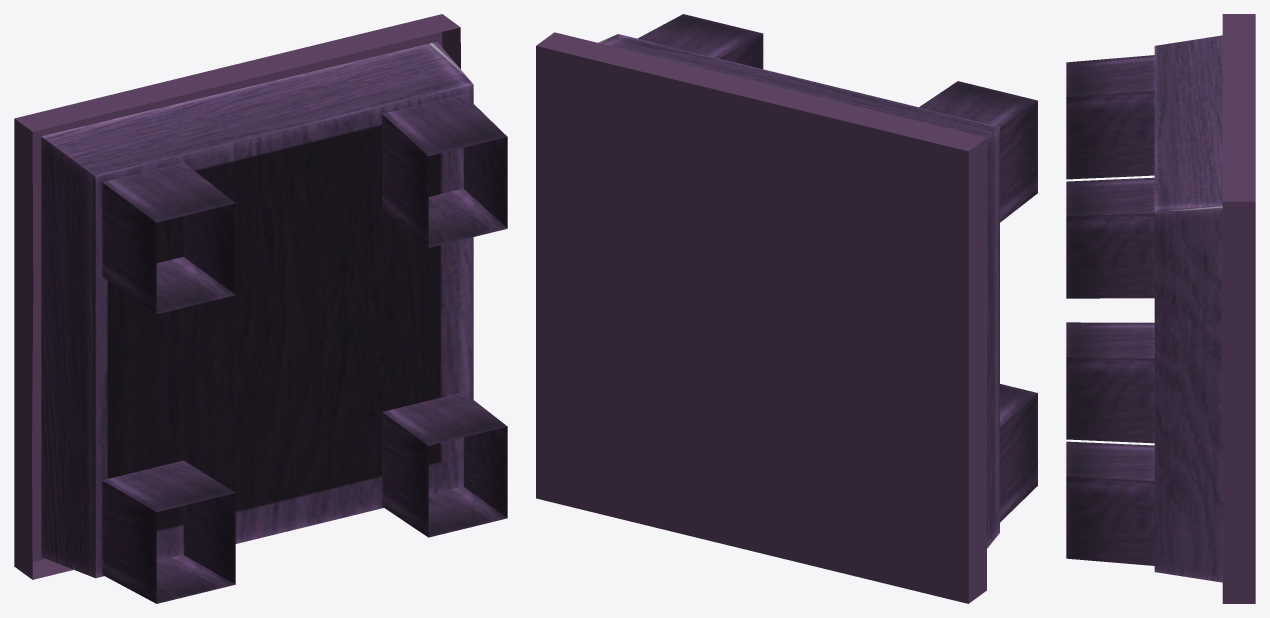
File: Magic.fbx
3 renders of one model, left to right at view 1: azimuth 30°, elevation 25°; view 2: azimuth 150°, elevation 25°; view 3: azimuth 270°, elevation 25°, orthographic. The views are drawn at different scales.
Parts seen in each view (by area): view 1: Magic_CounterTopA; view 2: Magic_CounterTopA; view 3: Magic_CounterTopA.
Part boxes in pixels (x1,y1,x2,y2): Magic_CounterTopA: (14, 14, 507, 603); Magic_CounterTopA: (536, 14, 1037, 603); Magic_CounterTopA: (1066, 14, 1255, 603).
Bounding box in the file's own units: 1.2 × 0.5124 × 1.2.
